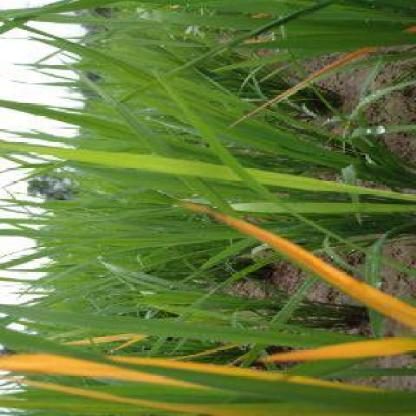Tungro: (195, 205, 416, 334), (1, 353, 388, 413), (266, 334, 416, 361)
